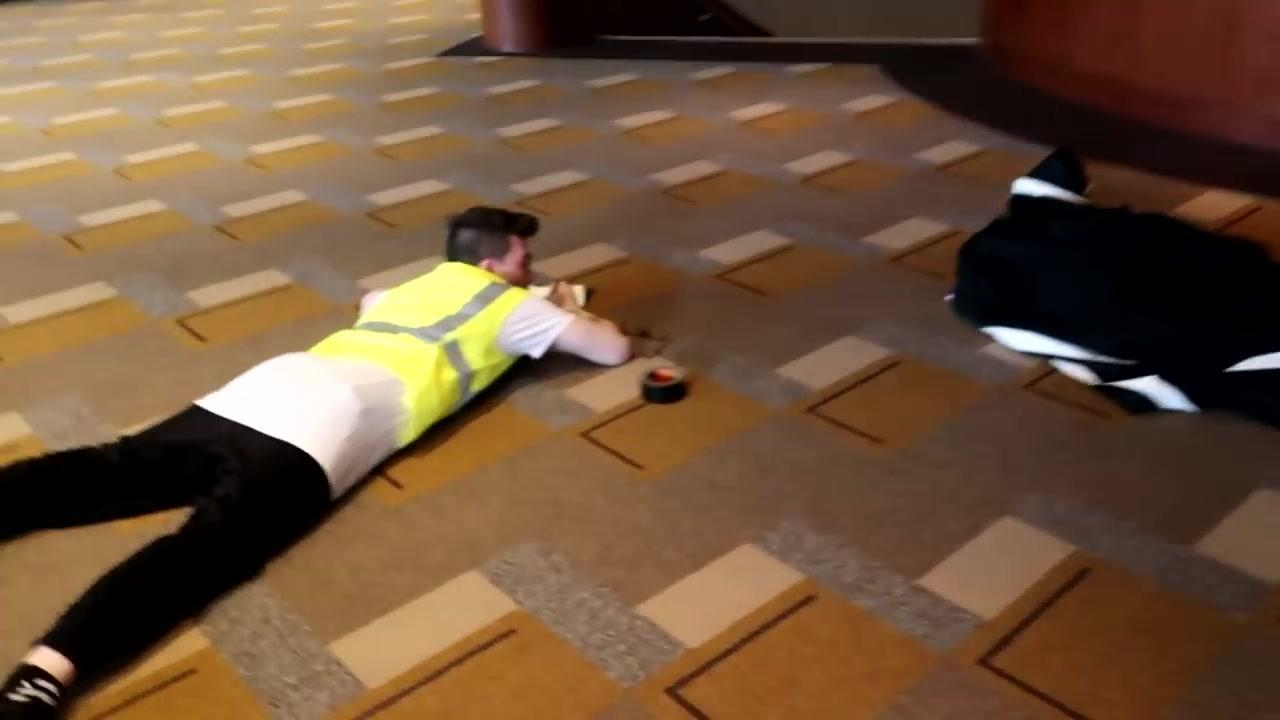vest: (307, 265, 531, 455)
